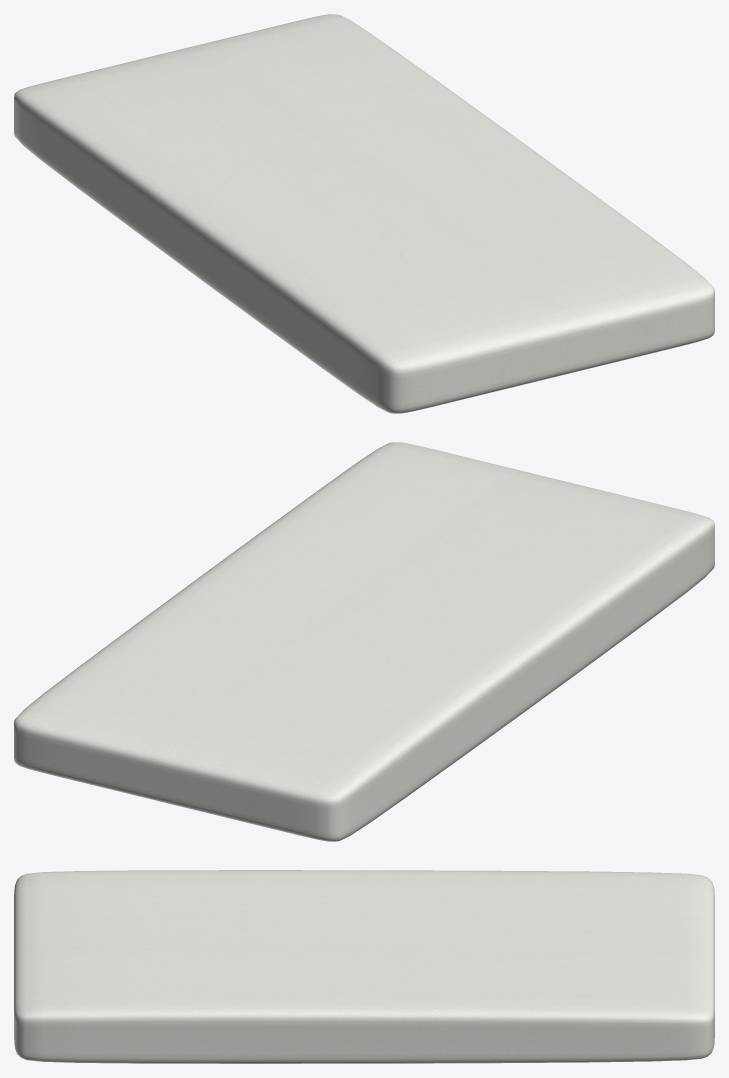
The model's file is Mattress.FBX.
3 renders of one model, top to bottom at view 1: azimuth 30°, elevation 25°; view 2: azimuth 150°, elevation 25°; view 3: azimuth 270°, elevation 25°, orthographic. The views are drawn at different scales.
Parts seen in each view (by area): view 1: mattress; view 2: mattress; view 3: mattress.
Boxes of the visible parts, left/top/right/bottom form: mattress: left=14, top=14, right=714, bottom=413; mattress: left=14, top=442, right=714, bottom=841; mattress: left=14, top=870, right=714, bottom=1063.
Size of the model in its own units: 58.35 by 10.26 by 118.
